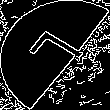L_SE: (20, 27, 90, 83)
